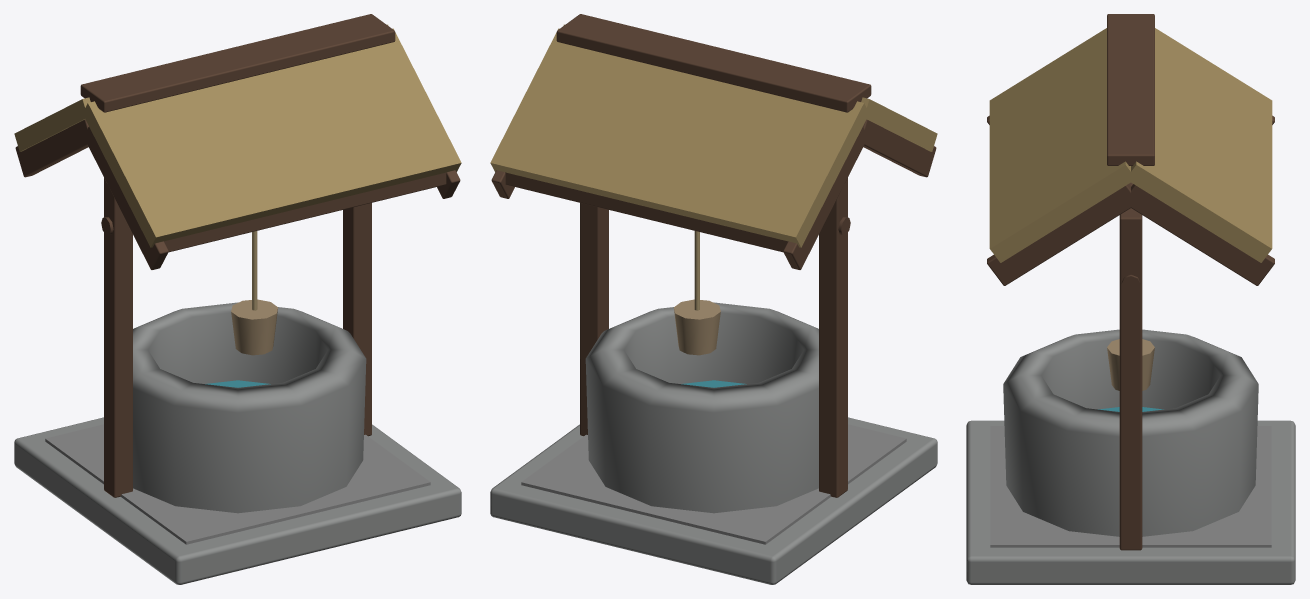
File: village-well.glb
3 renders of one model, left to right at view 1: azimuth 30°, elevation 25°; view 2: azimuth 150°, elevation 25°; view 3: azimuth 270°, elevation 25°, orthographic.
Parts seen in each view (by area): view 1: village-stone, village-thatch, village-cedar, village-cobble, planks; view 2: village-stone, village-thatch, village-cedar, village-cobble, planks; view 3: village-stone, village-thatch, village-cedar, village-cobble, planks.
Part boxes in pixels (<box>): village-stone: <box>14,302,461,584</box>; village-thatch: <box>14,24,461,247</box>; village-cedar: <box>15,14,460,497</box>; village-cobble: <box>45,424,430,544</box>; planks: <box>231,299,277,355</box>; village-stone: <box>490,302,937,584</box>; village-thatch: <box>490,24,937,247</box>; village-cedar: <box>491,14,936,497</box>; village-cobble: <box>521,424,906,544</box>; planks: <box>674,299,720,355</box>; village-stone: <box>966,329,1295,584</box>; village-thatch: <box>989,28,1272,262</box>; village-cedar: <box>987,14,1274,550</box>; village-cobble: <box>990,426,1271,547</box>; planks: <box>1107,339,1154,390</box>.
Size of the model in its own units: 2.2 by 2.99 by 2.06.
